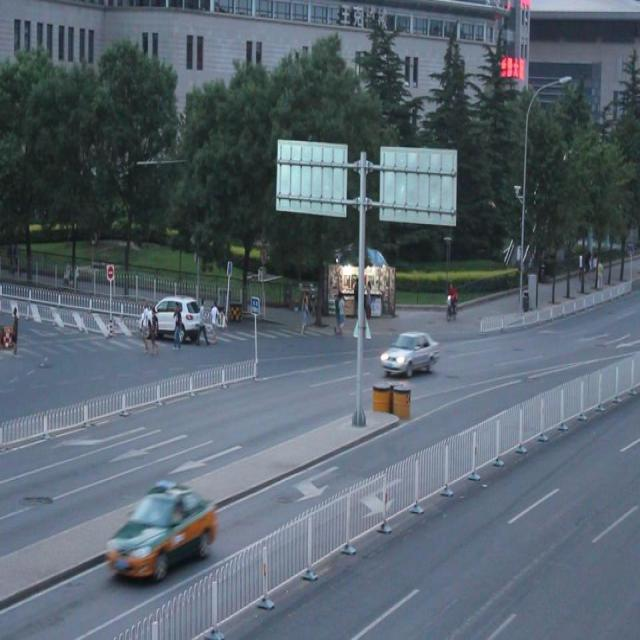car: (106, 484, 216, 580), (140, 293, 202, 341), (381, 327, 439, 377)
